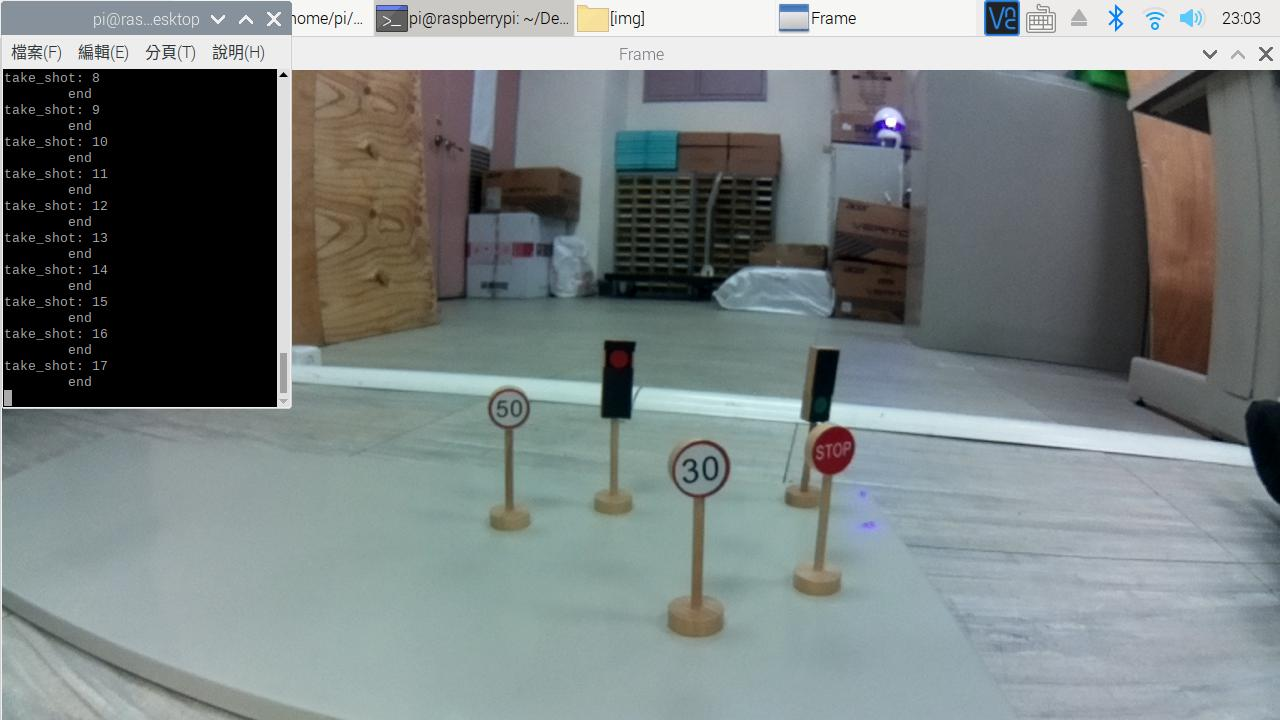Green: (811, 347, 837, 421)
Red: (599, 336, 636, 420)
Speed30: (674, 444, 727, 498)
Speed50: (485, 388, 535, 430)
Stop: (807, 431, 854, 472)
